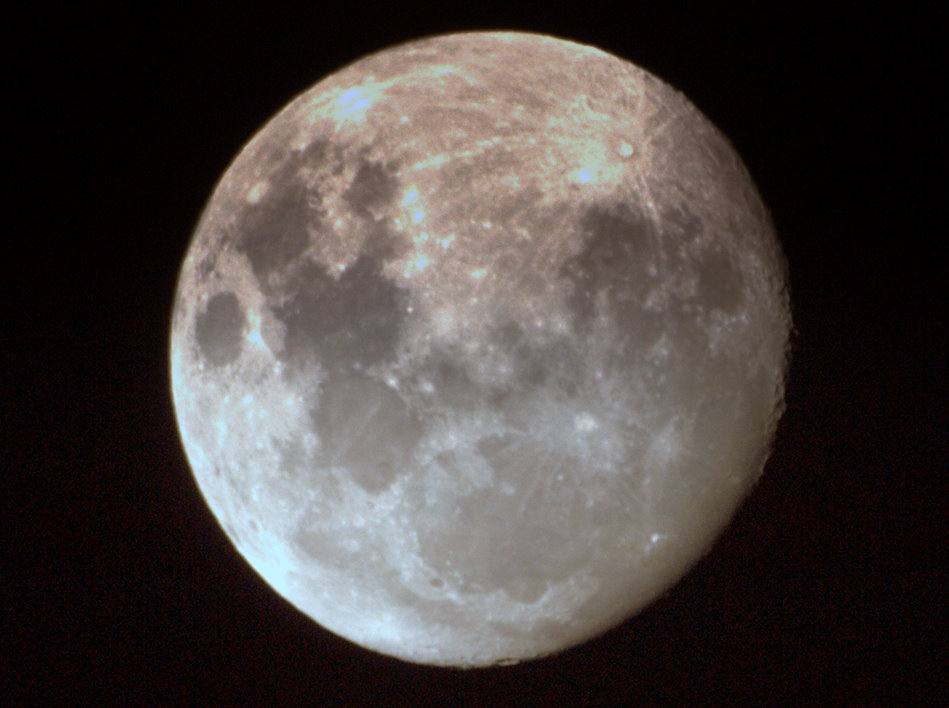crater: (525, 81, 670, 248), (322, 80, 406, 141), (563, 393, 607, 455), (422, 559, 452, 598)
